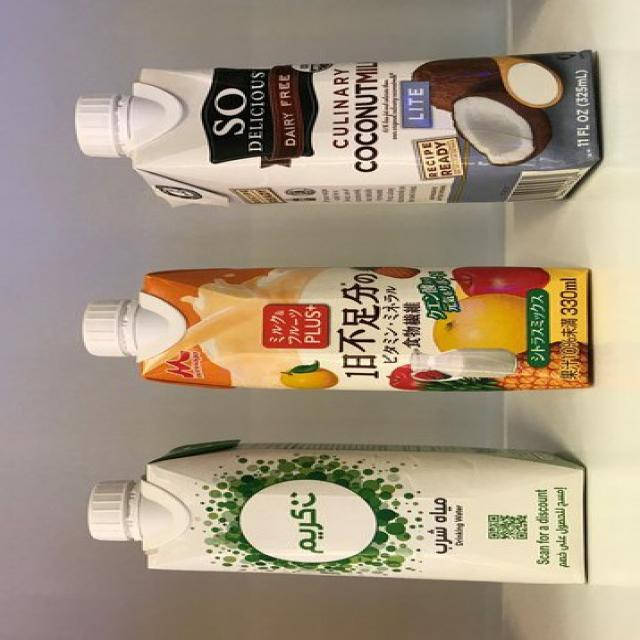non_white_jug: (67, 48, 605, 211), (88, 438, 589, 586), (85, 264, 592, 392)
